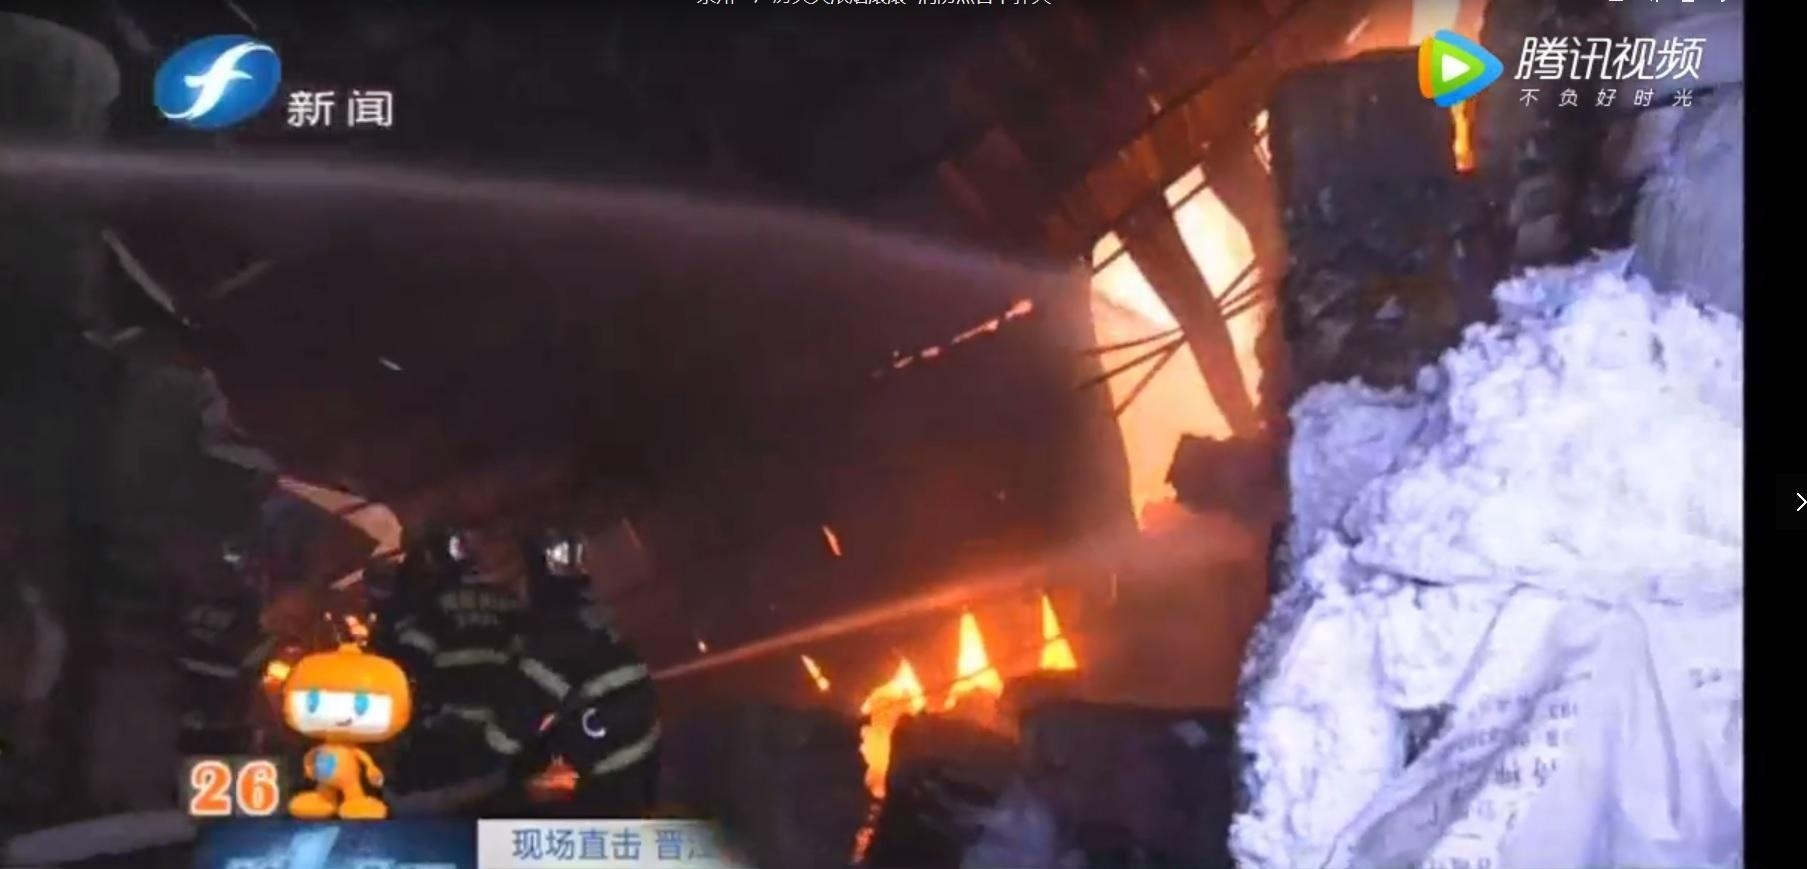fire: (844, 585, 1084, 739)
